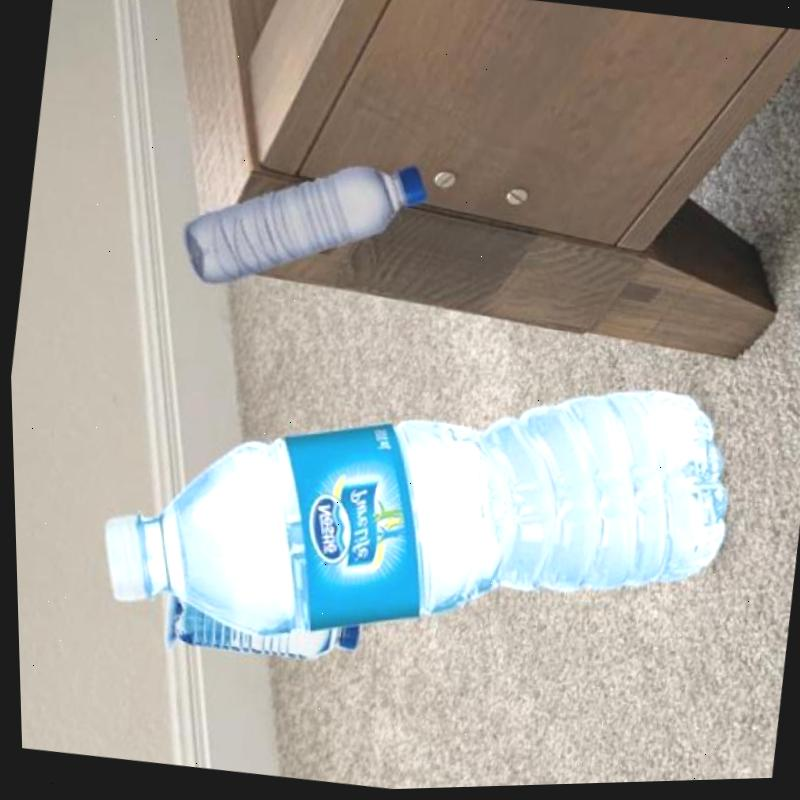botella: (83, 312, 744, 704), (176, 135, 429, 314), (169, 599, 360, 667)
